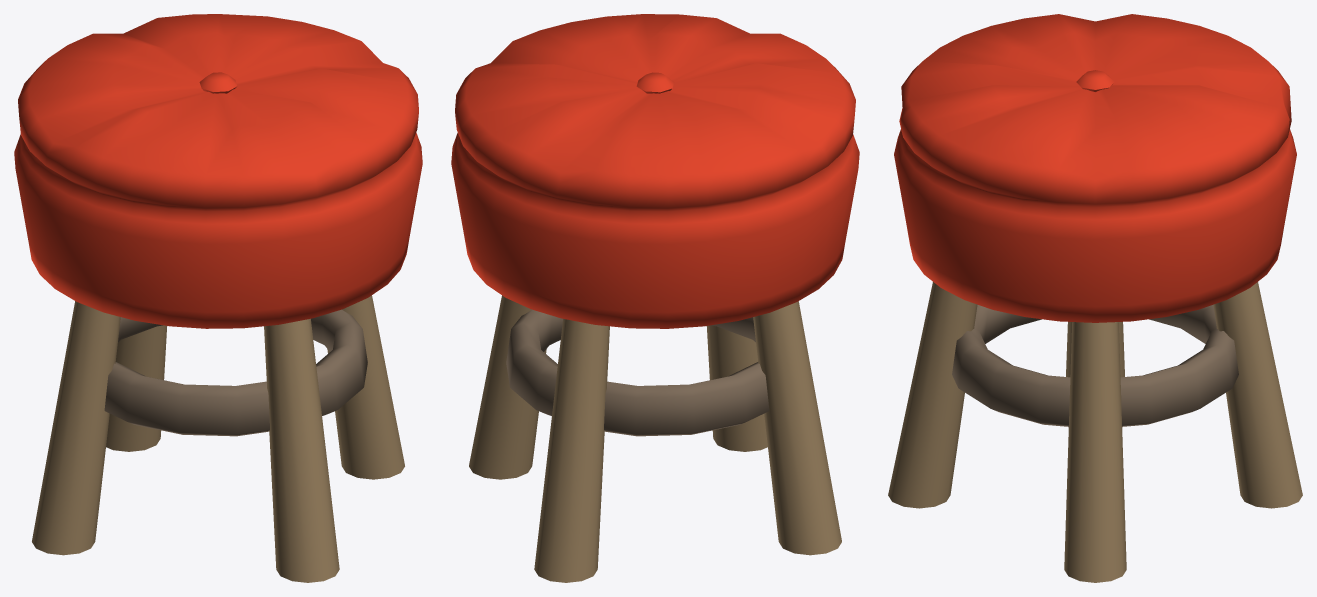
File: Stool.fbx
3 views of the same model, side by side, from view 1: azimuth 30°, elevation 25°; view 2: azimuth 150°, elevation 25°; view 3: azimuth 270°, elevation 25° (orthographic).
Visible parts, largest first — view 1: Stool; view 2: Stool; view 3: Stool.
Boxes of the visible parts, x1,y1,x2,y2 form: Stool: (14,14,422,582); Stool: (451,14,859,582); Stool: (888,14,1302,582).
Bounding box in the file's own units: 38.55 × 43.15 × 38.55.
